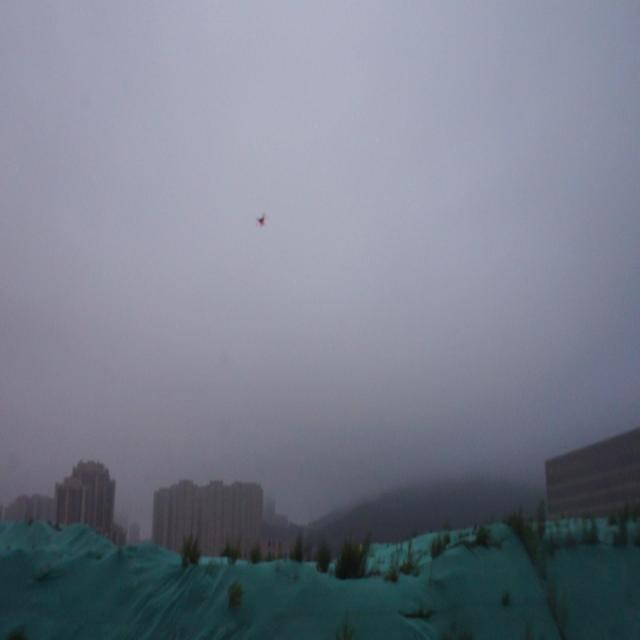drone: (253, 210, 268, 227)
